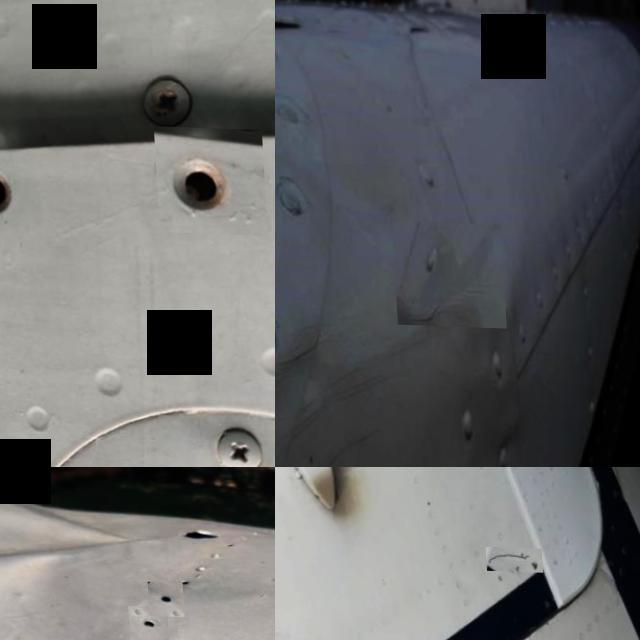Crack: (482, 544, 538, 570)
Dent: (393, 222, 497, 323), (275, 320, 351, 416)
Missing_Fastener: (150, 122, 264, 232), (0, 154, 34, 251), (125, 604, 165, 640), (145, 580, 182, 616), (166, 566, 199, 596)
